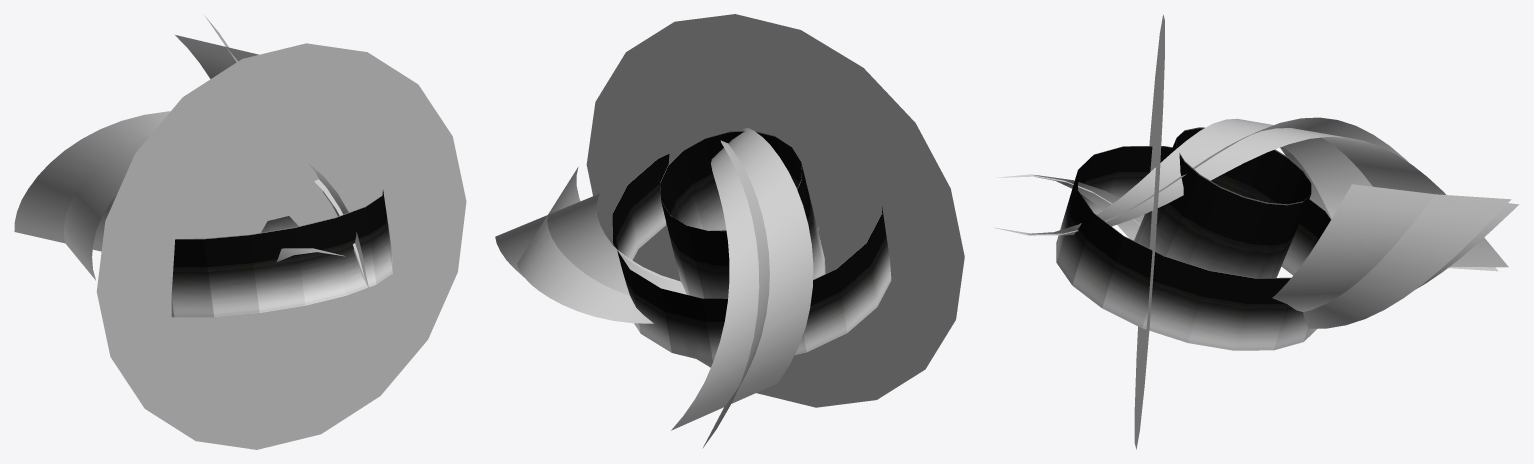
File: effect_xinglingzhaohuan_dongzuo_1 #6804441.fbx
3 views of the same model, side by side, from view 1: azimuth 30°, elevation 25°; view 2: azimuth 150°, elevation 25°; view 3: azimuth 270°, elevation 25° (orthographic). The views are drawn at different scales.
Parts seen in each view (by area): view 1: effect_aolabeibei_baoqi_01, effect_yuan_103_mo, effect_zhaohuanxingling_plane_01; view 2: effect_aolabeibei_baoqi_01, effect_zhaohuanxingling_plane_01, effect_yuan_103_mo, effect_yuan_103_mo (1); view 3: effect_zhaohuanxingling_plane_01, effect_yuan_103_mo, effect_yuan_103_mo (1), effect_aolabeibei_baoqi_01.
Part boxes in pixels (x1,y1,x2,y2): effect_aolabeibei_baoqi_01: (96, 43, 466, 449); effect_yuan_103_mo: (171, 190, 393, 317); effect_zhaohuanxingling_plane_01: (14, 15, 369, 289); effect_aolabeibei_baoqi_01: (586, 14, 964, 407); effect_zhaohuanxingling_plane_01: (495, 128, 820, 448); effect_yuan_103_mo: (612, 153, 891, 362); effect_yuan_103_mo (1): (660, 131, 825, 298); effect_zhaohuanxingling_plane_01: (994, 117, 1519, 328); effect_yuan_103_mo: (1056, 146, 1331, 350); effect_yuan_103_mo (1): (1134, 127, 1311, 277); effect_aolabeibei_baoqi_01: (1134, 14, 1164, 449).
Size of the model in its own units: 5.37 by 5.27 by 6.44.
